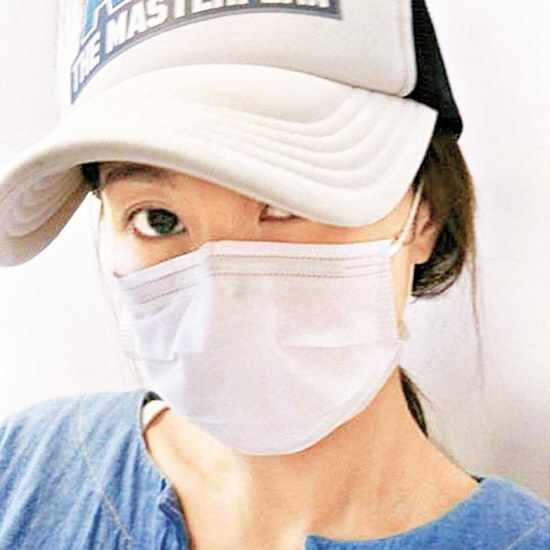face_mask: (107, 90, 404, 461)
